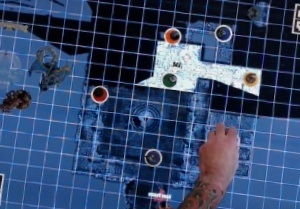blue: (214, 22, 236, 43)
green: (157, 67, 181, 88)
orange: (161, 25, 183, 45)
red: (88, 82, 111, 106)
violet: (142, 145, 165, 168)
yellow: (243, 66, 263, 88)
